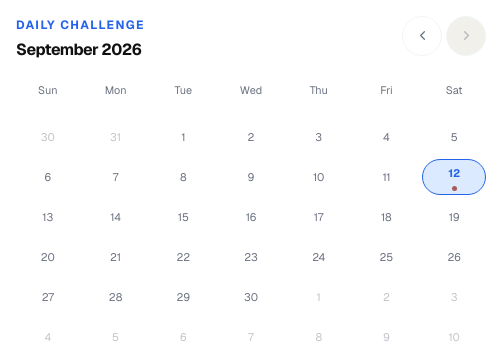
Daily Challenge calendar UI › preserves canonical completion marks across month navigation
Click the button named "Previous month". click: click(422, 36)
box: x1=402 y1=16 x2=442 y2=56
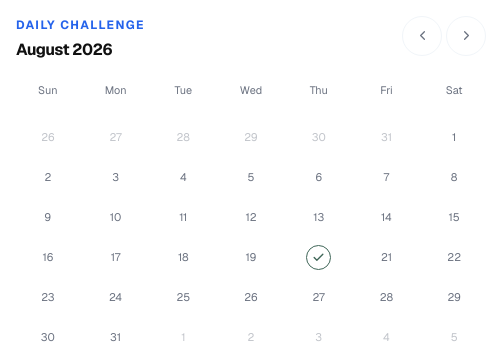
Check: the element with class "challenge-calendar-complete" is shown, box x1=306 y1=245 x2=331 y2=270
Click the button named "Next month". click: click(466, 36)
box: x1=446 y1=16 x2=486 y2=56
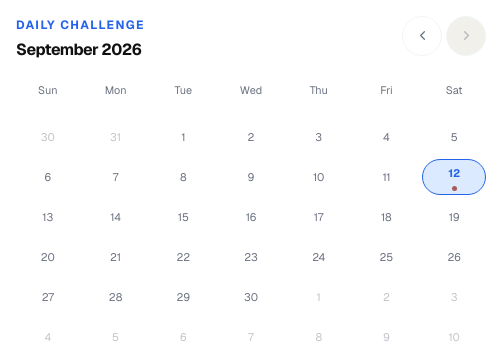
Click the button named "Previous month". click: click(422, 36)
box: x1=402 y1=16 x2=442 y2=56
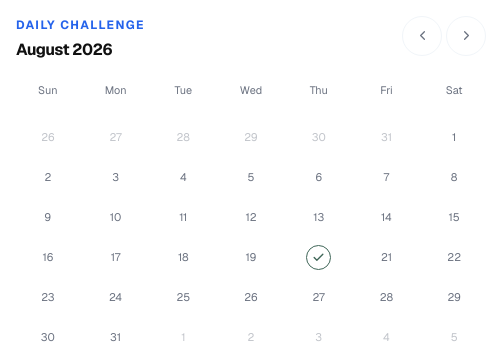
Check: the element with class "challenge-calendar-complete" is shown, box x1=306 y1=245 x2=331 y2=270
